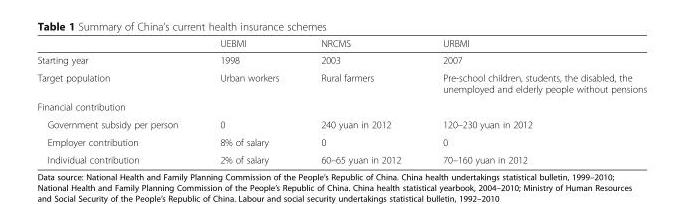table: (36, 37, 646, 165)
table column: (421, 37, 646, 165), (36, 37, 198, 165), (299, 37, 421, 165), (198, 37, 299, 165)
table column header: (36, 37, 646, 51)
table projected row header: (36, 97, 646, 115)
table row: (36, 68, 646, 97), (36, 97, 646, 115), (36, 132, 646, 150), (36, 51, 646, 68), (36, 115, 646, 132), (36, 150, 646, 165), (36, 37, 646, 51)
